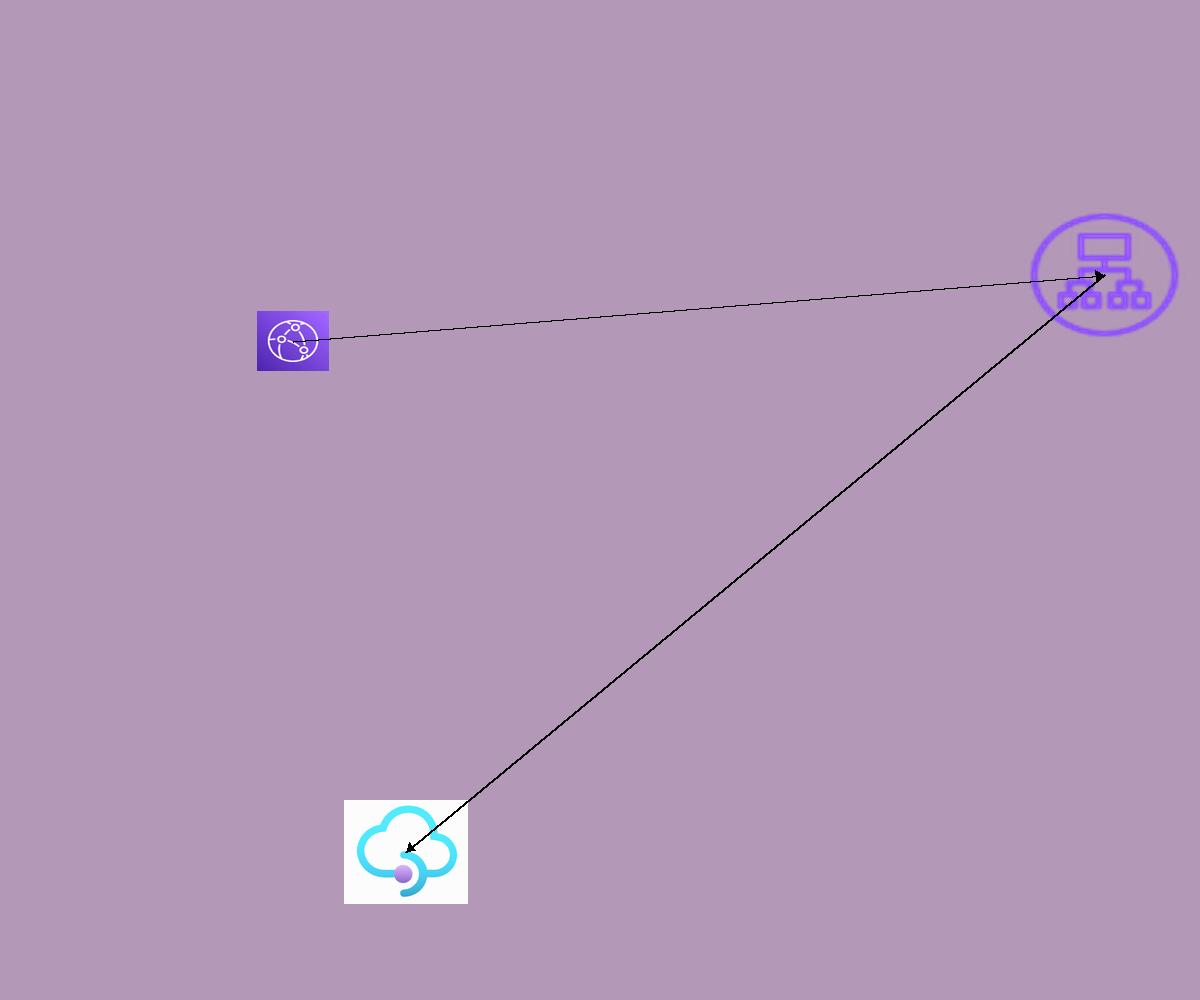AWS-CloudFront: (257, 311, 329, 371)
AWS-Res_Elastic-Load-Balancing_Application-Load-Balancer: (1024, 208, 1185, 342)
Azure_api_gateway: (344, 800, 468, 904)
